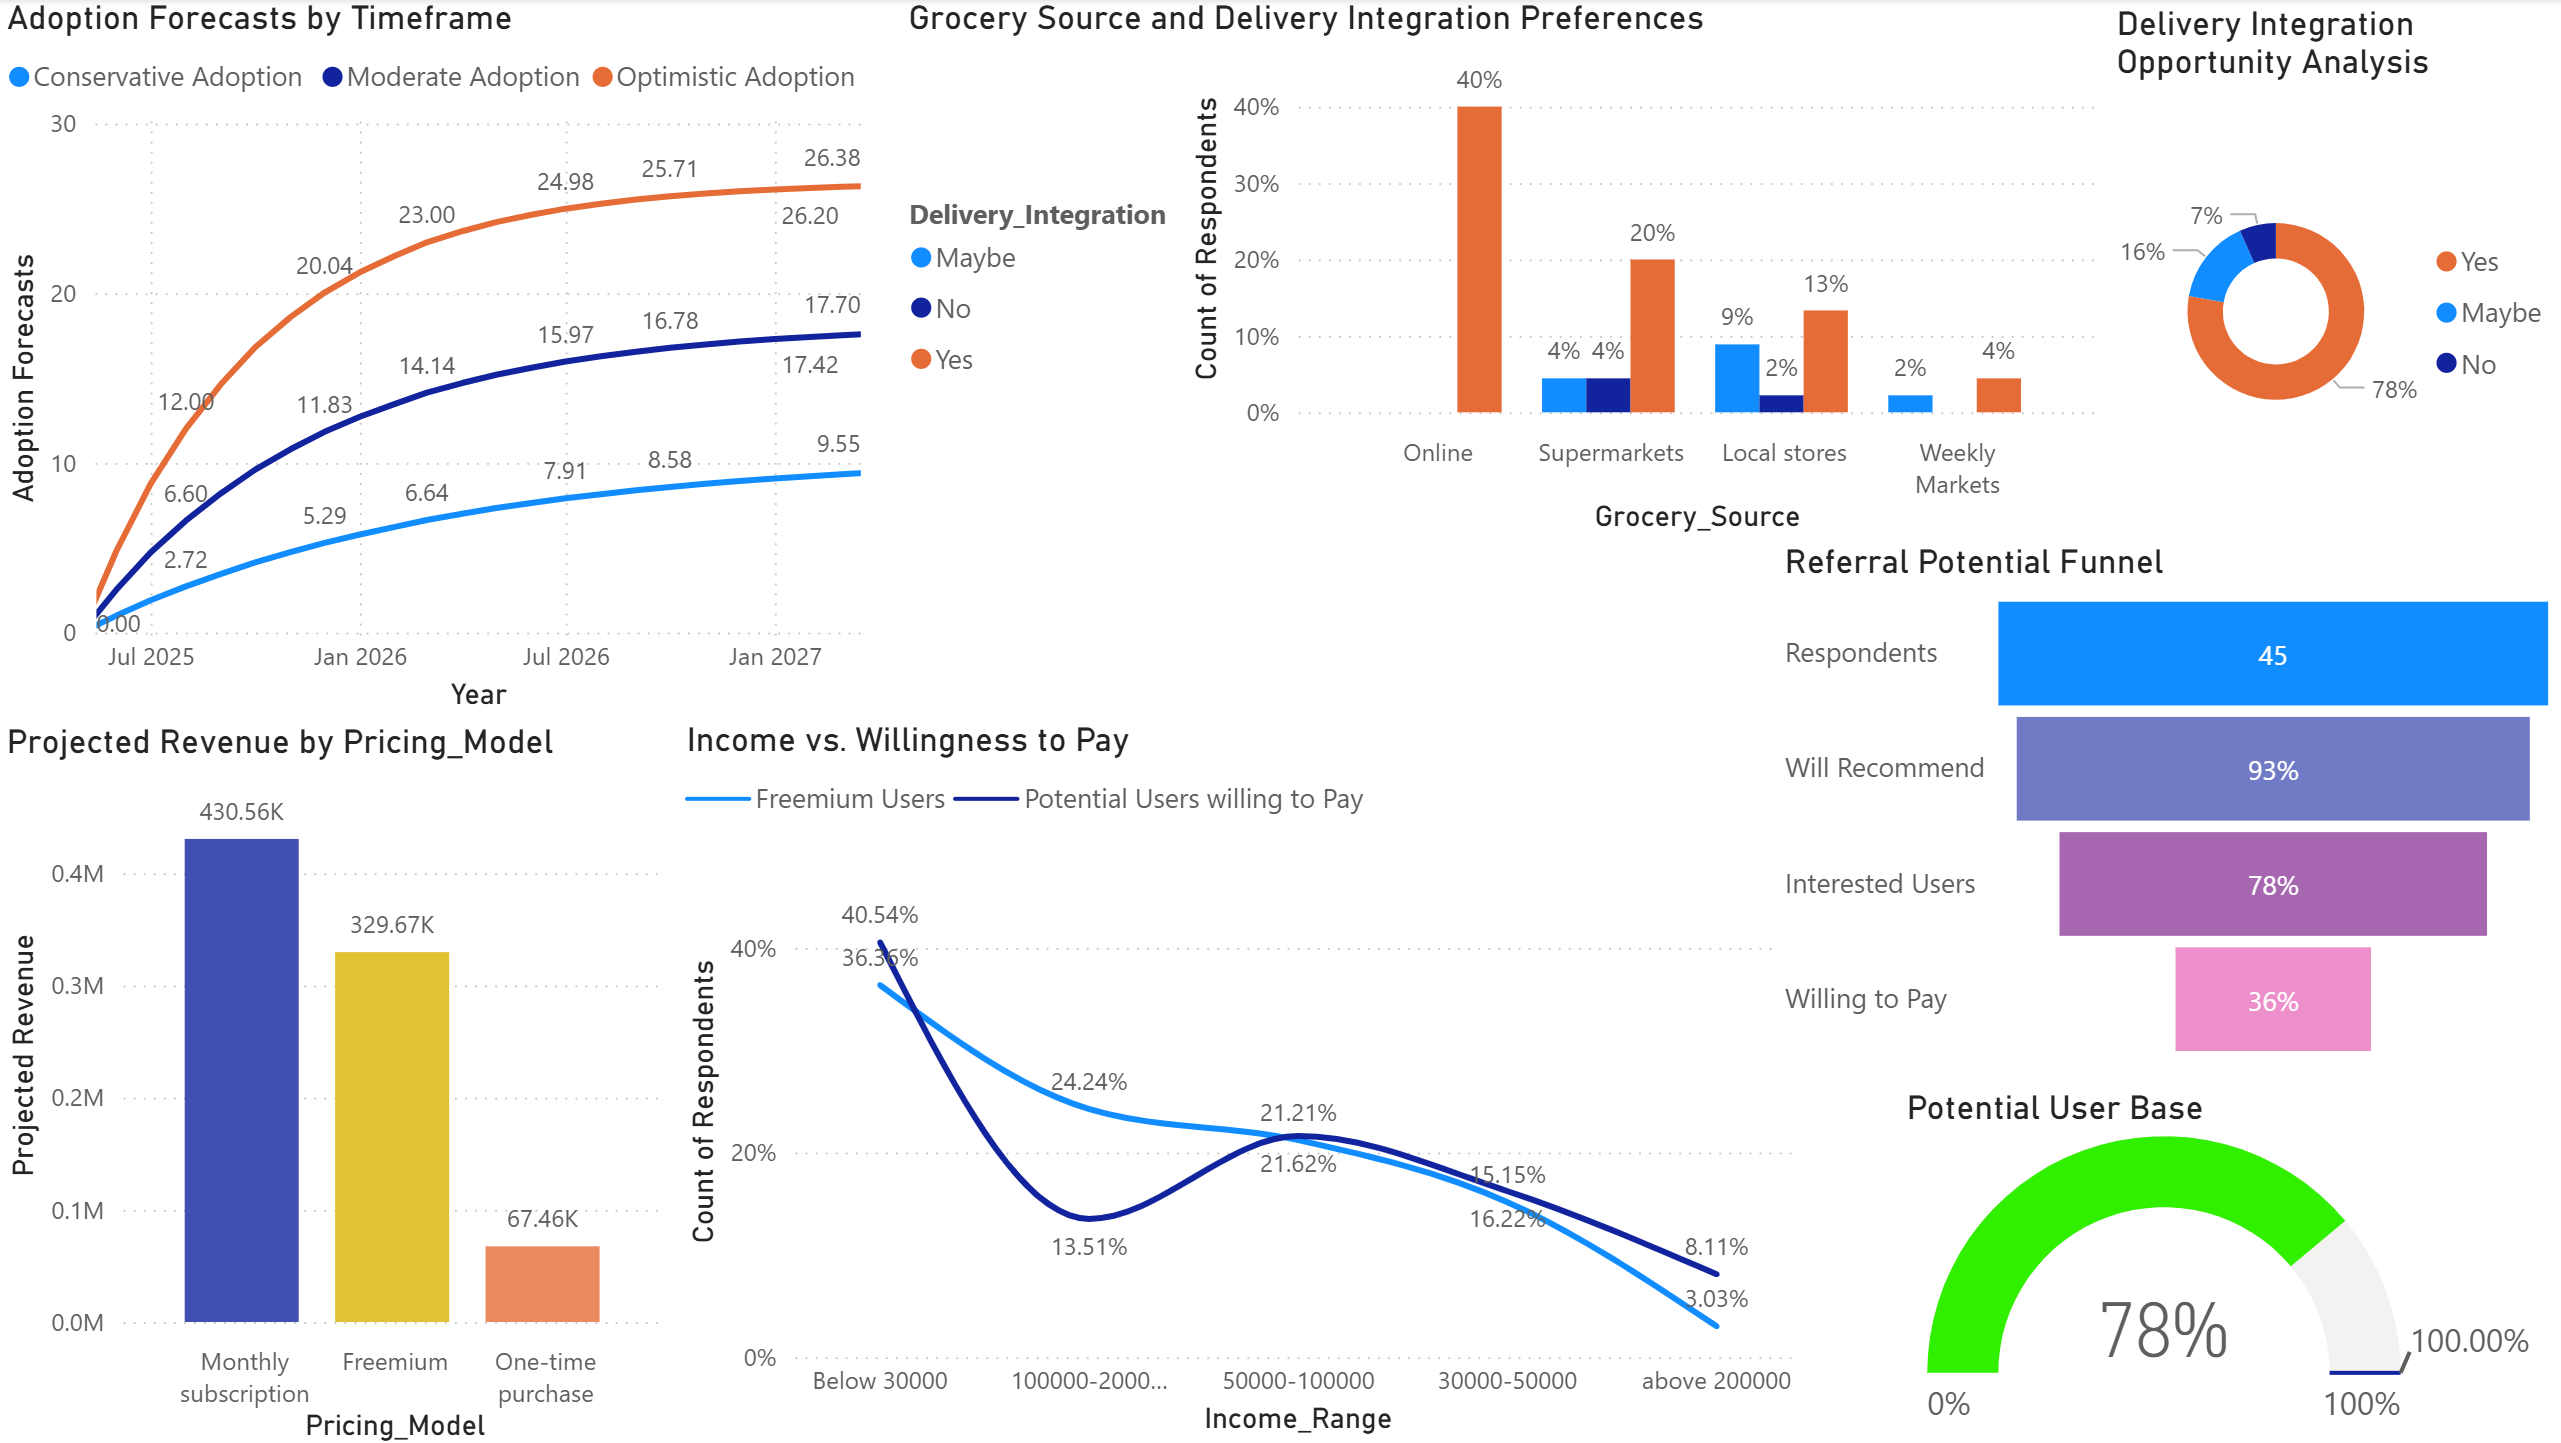

Layout of this report page (visuals, bound fields, positions):
{"tool":"powerbi","page":{"name":"Future Scope & Revenue Projections","canvas":[1280,720],"ordinal":2},"visuals":[{"type":"gauge","title":"Potential User Base","fields":{"Y":["FeatureMetrics.Positive Interest Rate"]},"box":[945.8,542.9,335.5,178.3],"z":0},{"type":"columnChart","fields":{"Category":["Form_Responses1.Pricing_Model"],"Y":["FeatureMetrics.Projected Revenue"]},"box":[0,360.6,338.2,363.3],"z":1000},{"type":"donutChart","title":"Delivery Integration Opportunity Analysis","fields":{"Category":["Form_Responses1.Delivery_Integration"],"Y":["CountNonNull(Form_Responses1.Respondents)"]},"box":[1050.2,2.6,231.2,268.2],"z":2000},{"type":"clusteredColumnChart","title":"Grocery Source and Delivery Integration Preferences","fields":{"Category":["Form_Responses1.Grocery_Source"],"Y":["Sum(Form_Responses1.Respondents)"],"Series":["Form_Responses1.Delivery_Integration"]},"box":[449.1,0,601,270.8],"z":3000},{"type":"lineChart","title":"Income vs. Willingness to Pay","fields":{"Category":["Form_Responses1.Income_Range"],"Y":["Divide(FeatureMetrics.Freemium, ScopedEval(FeatureMetrics.Freemium, []))","Divide(FeatureMetrics.PotentialPayUsers, ScopedEval(FeatureMetrics.PotentialPayUsers, []))"]},"box":[338.2,359.3,569.3,360.6],"z":4000},{"type":"lineChart","title":"Adoption Forecasts by Timeframe","fields":{"Category":["Date.Date.Variation.Date Hierarchy.Year","Date.Date.Variation.Date Hierarchy.Quarter","Date.Date.Variation.Date Hierarchy.Month","Date.Date.Variation.Date Hierarchy.Day"],"Y":["Date.Conservative Adoption Forecast","Date.Moderate Adoption Forecast","Date.Optimistic Adoption Forecast"]},"box":[0,0,449.1,359.3],"z":5000},{"type":"funnel","title":"Referral Potential Funnel","fields":{"Y":["FeatureMetrics.Total Respondents","FeatureMetrics.UsersRecommend","FeatureMetrics.Interested Users","FeatureMetrics.WillPayusers"]},"box":[885,270.8,395,264.2],"z":6000}]}

Visuals, with their boxes in screenshot pixels (x1, y1, x2, y2), scaled from the page's 1280x720 canvas onto the 2561x1443 screenshot:
"Potential User Base" gauge: (1892, 1088, 2560, 1442)
columnChart - Form_Responses1.Pricing_Model x FeatureMetrics.Projected Revenue: (0, 723, 677, 1442)
"Delivery Integration Opportunity Analysis" donutChart: (2101, 5, 2560, 543)
"Grocery Source and Delivery Integration Preferences" clusteredColumnChart: (899, 0, 2101, 543)
"Income vs. Willingness to Pay" lineChart: (677, 720, 1816, 1442)
"Adoption Forecasts by Timeframe" lineChart: (0, 0, 899, 720)
"Referral Potential Funnel" funnel: (1771, 543, 2560, 1072)
